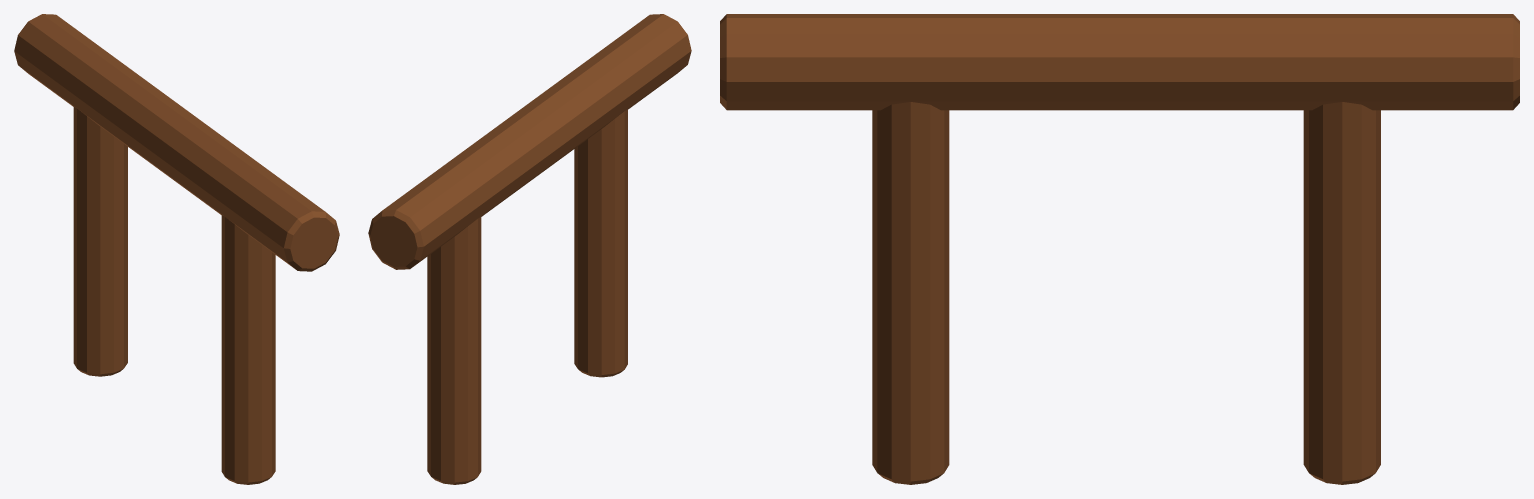
The model's file is ww_hitching_post.glb.
3 views of the same model, side by side, from view 1: azimuth 30°, elevation 25°; view 2: azimuth 150°, elevation 25°; view 3: azimuth 270°, elevation 25° (orthographic). The views are drawn at different scales.
Parts seen in each view (by area): view 1: Hitching_Post; view 2: Hitching_Post; view 3: Hitching_Post.
Boxes of the visible parts, x1,y1,x2,y2 form: Hitching_Post: (14,14,339,484); Hitching_Post: (368,14,691,484); Hitching_Post: (720,14,1519,484).
Size of the model in its own units: 0.1889 by 0.9999 by 1.6.
